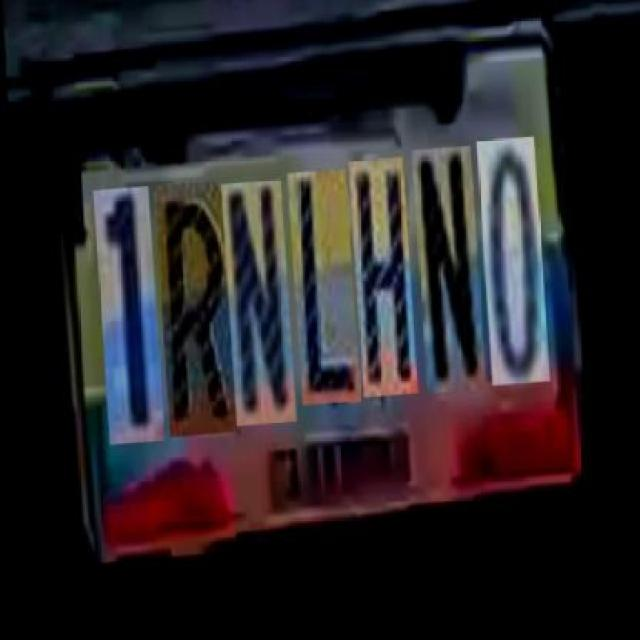1: (91, 188, 158, 446)
h: (345, 162, 412, 402)
l: (284, 174, 356, 411)
n: (218, 185, 292, 429), (408, 152, 481, 399)
o: (473, 144, 544, 391)
r: (151, 184, 231, 441)
